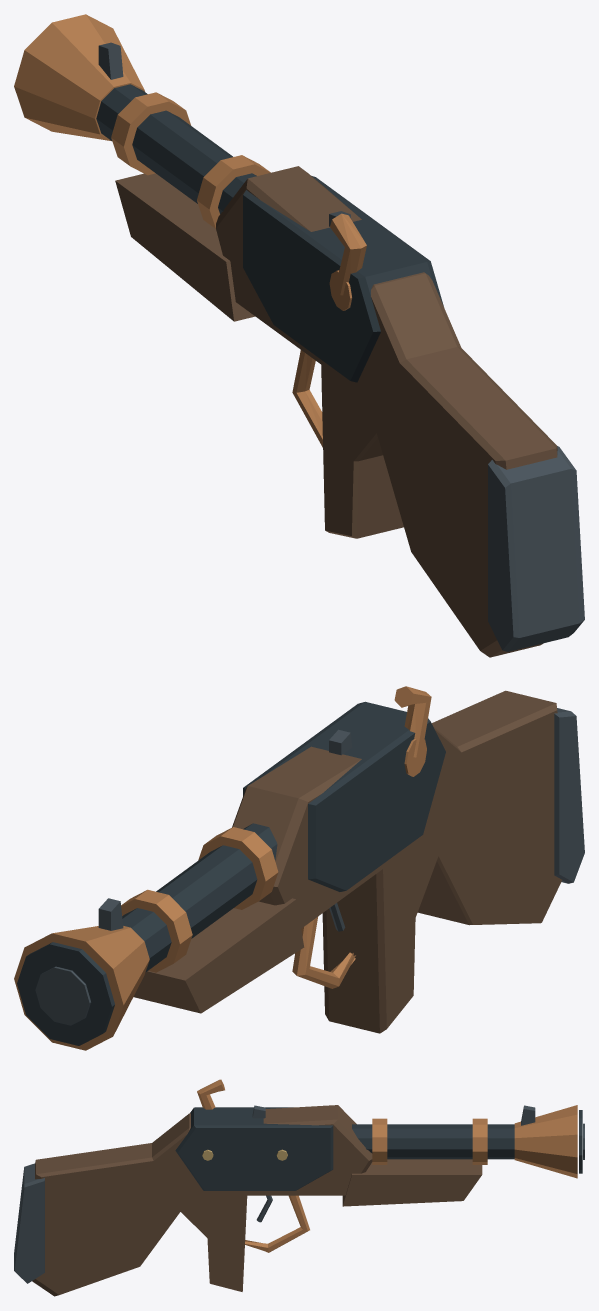
The model's file is AEW_Longgun_CinderMouth.fbx.
3 views of the same model, one above another, from view 1: azimuth 30°, elevation 25°; view 2: azimuth 150°, elevation 25°; view 3: azimuth 270°, elevation 25° (orthographic). The views are drawn at different scales.
Parts seen in each view (by area): view 1: AEW_Longgun_CinderMouth; view 2: AEW_Longgun_CinderMouth; view 3: AEW_Longgun_CinderMouth.
Part boxes in pixels (box(x1,y1,x2,y2)): AEW_Longgun_CinderMouth: box(14, 14, 584, 657); AEW_Longgun_CinderMouth: box(14, 686, 584, 1050); AEW_Longgun_CinderMouth: box(14, 1079, 584, 1296).
Size of the model in its own units: 0.1596 by 0.4759 by 1.23.
